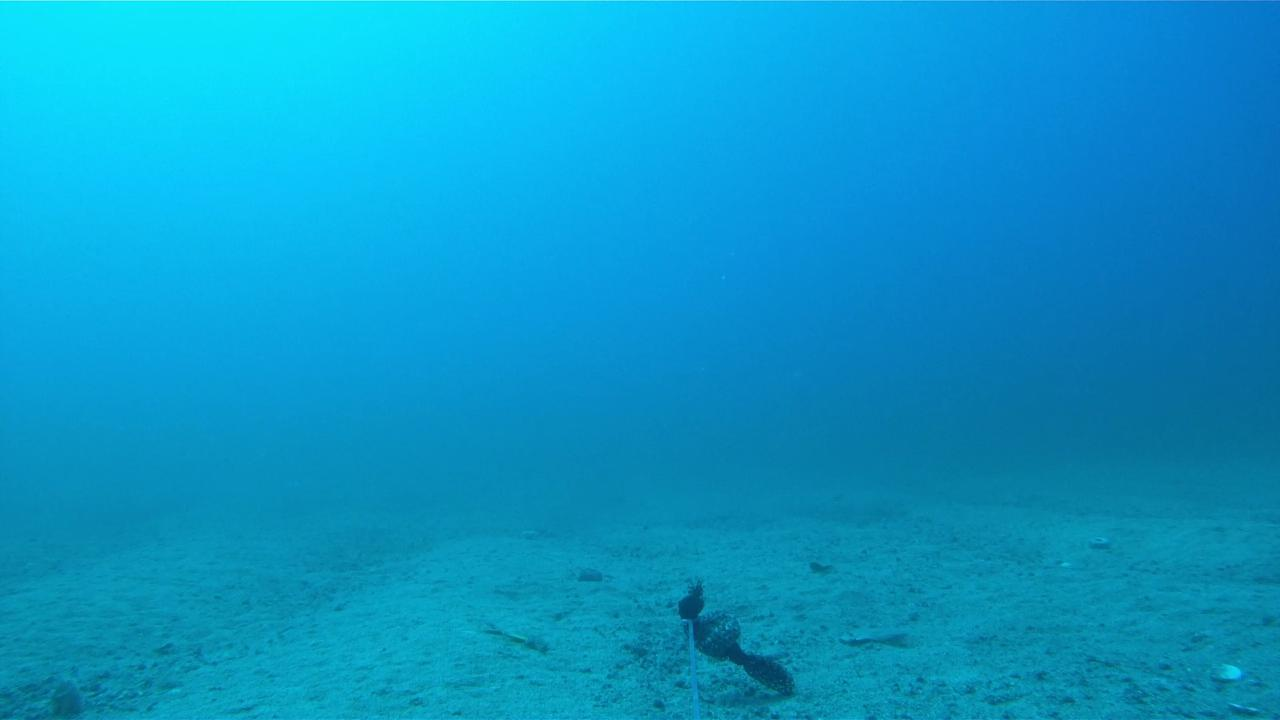bothus: (832, 613, 904, 654)
